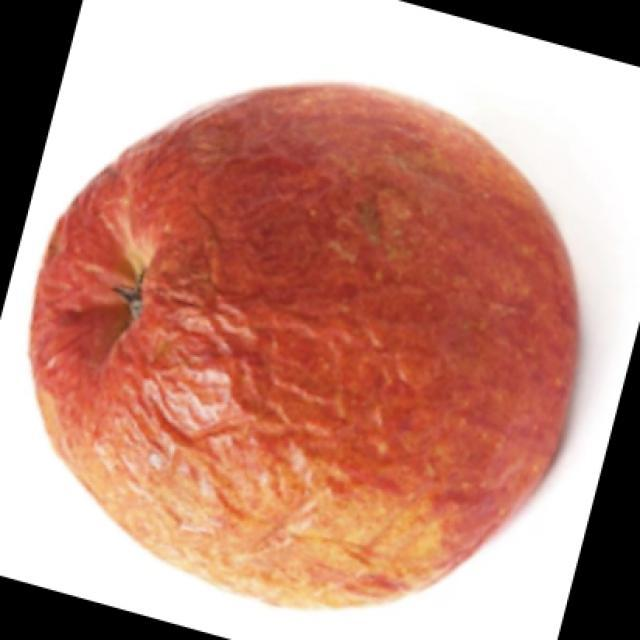Rotten: (31, 72, 566, 613)
